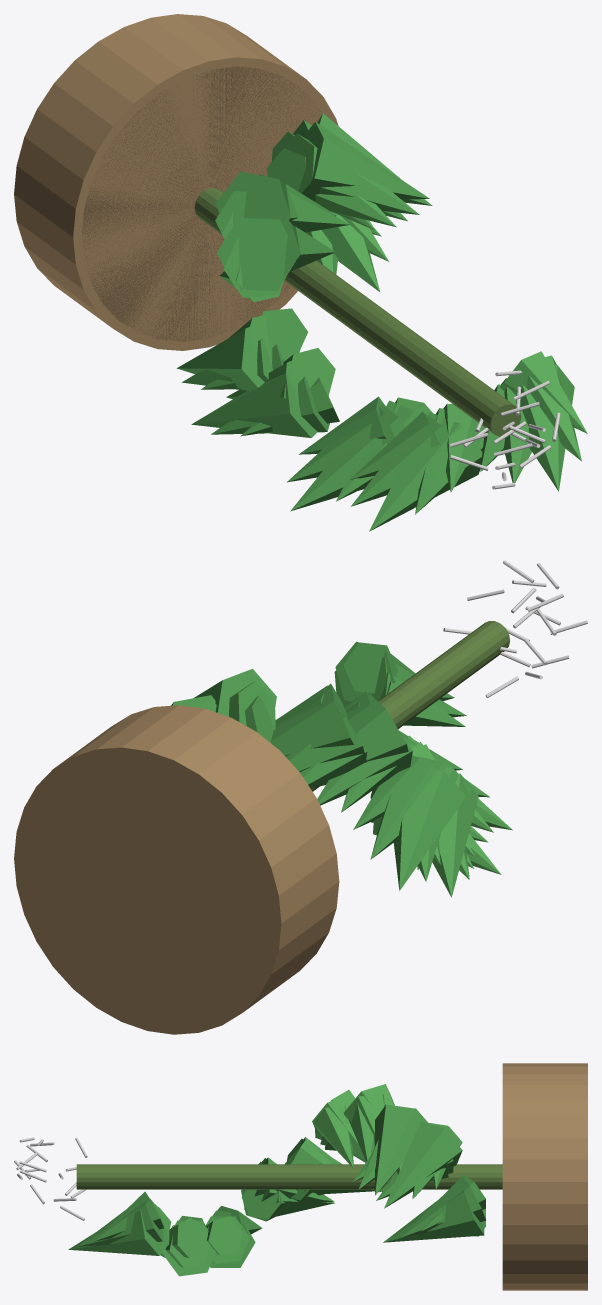
File: stage_5_prefioritura.glb
3 views of the same model, one above another, from view 1: azimuth 30°, elevation 25°; view 2: azimuth 150°, elevation 25°; view 3: azimuth 270°, elevation 25° (orthographic). The views are drawn at different scales.
Visible parts, largest first — view 1: world; view 2: world; view 3: world.
Boxes of the visible parts, bbox=[...] form: world: bbox=[14, 14, 587, 531]; world: bbox=[14, 560, 587, 1034]; world: bbox=[14, 1063, 587, 1290].
Size of the model in its own units: 16.22 by 16 by 40.4.
